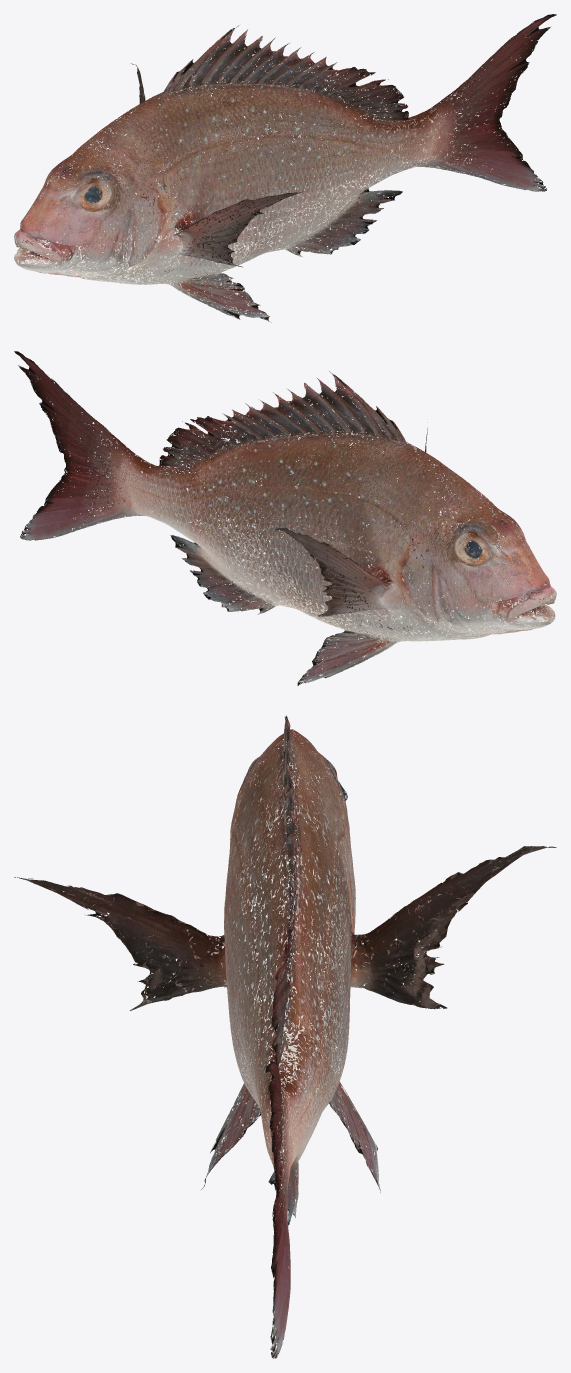
File: red_seabream.glb
The picture shows the model from 3 angles, top to bottom: view 1: azimuth 30°, elevation 25°; view 2: azimuth 150°, elevation 25°; view 3: azimuth 270°, elevation 25°; orthographic projection. The views are drawn at different scales.
Visible parts, largest first — view 1: Object_6, Object_11; view 2: Object_11, Object_6; view 3: Object_6, Object_11.
Boxes of the visible parts, bbox=[...] form: Object_6: bbox=[14, 14, 556, 322]; Object_11: bbox=[14, 14, 556, 321]; Object_11: bbox=[15, 351, 556, 684]; Object_6: bbox=[14, 351, 556, 685]; Object_6: bbox=[17, 715, 555, 1358]; Object_11: bbox=[14, 717, 556, 1358].
Bounding box in the file's own units: 12.62 × 6.49 × 6.7.
Materials: 2 (2 with a texture image).
